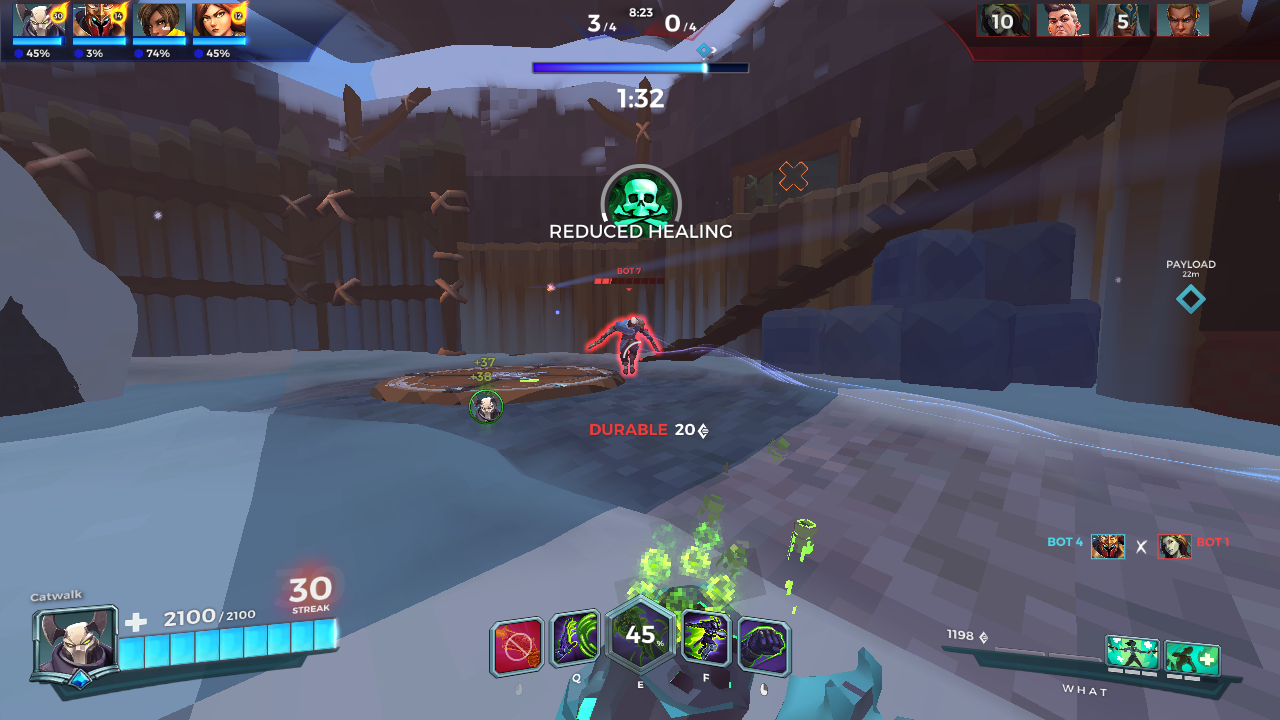model: (588, 316, 661, 384)
